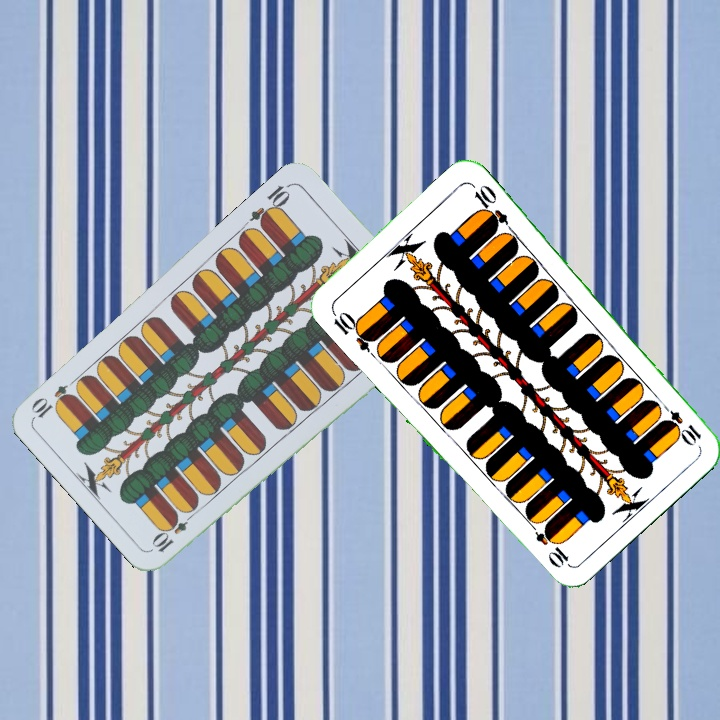E10: (655, 398, 705, 448), (327, 306, 379, 354), (246, 179, 294, 230), (149, 506, 198, 555)
